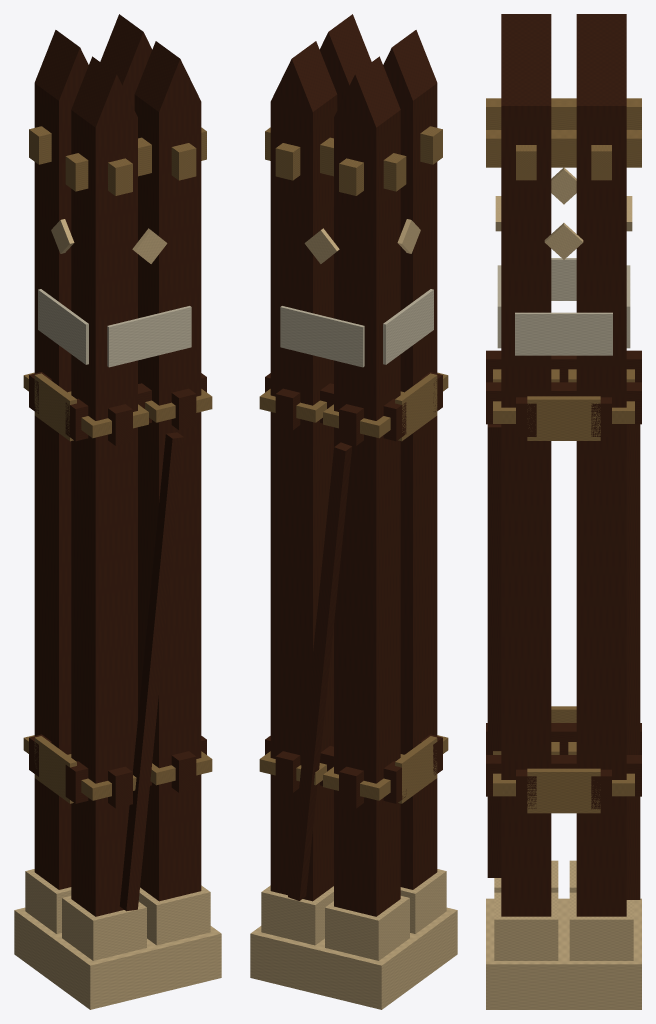
File: Berber_PalisadeBastion_Age4_straight.fbx
3 views of the same model, side by side, from view 1: azimuth 30°, elevation 25°; view 2: azimuth 150°, elevation 25°; view 3: azimuth 270°, elevation 25° (orthographic). The views are drawn at different scales.
Parts seen in each view (by area): view 1: split_timber_upright.004, split_timber_upright.006, split_timber_upright.005, compacted_earth_footing.001, terminal_diagonal_stay.008, earth_post_socket.004, native_owner_stripe_source.006, earth_post_socket.006, split_timber_upright.007, native_owner_stripe_source.004, earth_post_socket.005, exposed_wall_socket_collar.005 (+16 smaller); view 2: split_timber_upright.005, split_timber_upright.007, split_timber_upright.004, compacted_earth_footing.001, terminal_diagonal_stay.006, earth_post_socket.005, native_owner_stripe_source.007, earth_post_socket.007, split_timber_upright.006, native_owner_stripe_source.004, earth_post_socket.004, exposed_wall_socket_collar.005 (+16 smaller); view 3: split_timber_upright.006, split_timber_upright.007, compacted_earth_footing.001, terminal_diagonal_stay.006, terminal_diagonal_stay.008, native_owner_stripe_source.005, earth_post_socket.006, earth_post_socket.007, exposed_wall_socket_collar.002, exposed_wall_socket_collar.003, locking_head_tie_y.003, locking_head_tie_y.002 (+19 smaller).
Boxes of the visible parts, <box> form: split_timber_upright.004: <box>71,56,137,916</box>; split_timber_upright.006: <box>134,41,201,901</box>; split_timber_upright.005: <box>34,30,88,889</box>; compacted_earth_footing.001: <box>14,907,221,1009</box>; terminal_diagonal_stay.008: <box>119,432,183,911</box>; earth_post_socket.004: <box>62,896,146,960</box>; native_owner_stripe_source.006: <box>107,306,191,367</box>; earth_post_socket.006: <box>138,885,210,945</box>; split_timber_upright.007: <box>100,14,152,109</box>; native_owner_stripe_source.004: <box>38,289,88,364</box>; earth_post_socket.005: <box>25,869,71,933</box>; exposed_wall_socket_collar.005: <box>34,373,76,441</box>; split_timber_upright.005: <box>334,56,400,916</box>; split_timber_upright.007: <box>270,41,337,901</box>; split_timber_upright.004: <box>383,30,437,889</box>; compacted_earth_footing.001: <box>250,907,457,1009</box>; terminal_diagonal_stay.006: <box>288,442,352,900</box>; earth_post_socket.005: <box>325,896,409,960</box>; native_owner_stripe_source.007: <box>280,306,364,367</box>; earth_post_socket.007: <box>261,885,333,945</box>; split_timber_upright.006: <box>319,14,371,109</box>; native_owner_stripe_source.004: <box>383,289,433,364</box>; earth_post_socket.004: <box>400,869,446,933</box>; exposed_wall_socket_collar.005: <box>395,373,437,441</box>; split_timber_upright.006: <box>501,46,551,916</box>; split_timber_upright.007: <box>576,46,626,916</box>; compacted_earth_footing.001: <box>486,898,641,1009</box>; terminal_diagonal_stay.006: <box>626,424,640,899</box>; terminal_diagonal_stay.008: <box>487,424,501,877</box>; native_owner_stripe_source.005: <box>515,312,612,355</box>; earth_post_socket.006: <box>494,892,558,960</box>; earth_post_socket.007: <box>569,892,633,960</box>; exposed_wall_socket_collar.002: <box>527,768,600,813</box>; exposed_wall_socket_collar.003: <box>527,396,600,440</box>; locking_head_tie_y.003: <box>486,130,641,167</box>; locking_head_tie_y.002: <box>486,98,641,129</box>.
Size of the model in its own units: 68.29 by 458 by 68.29.
Materials: 4 (4 with a texture image).
